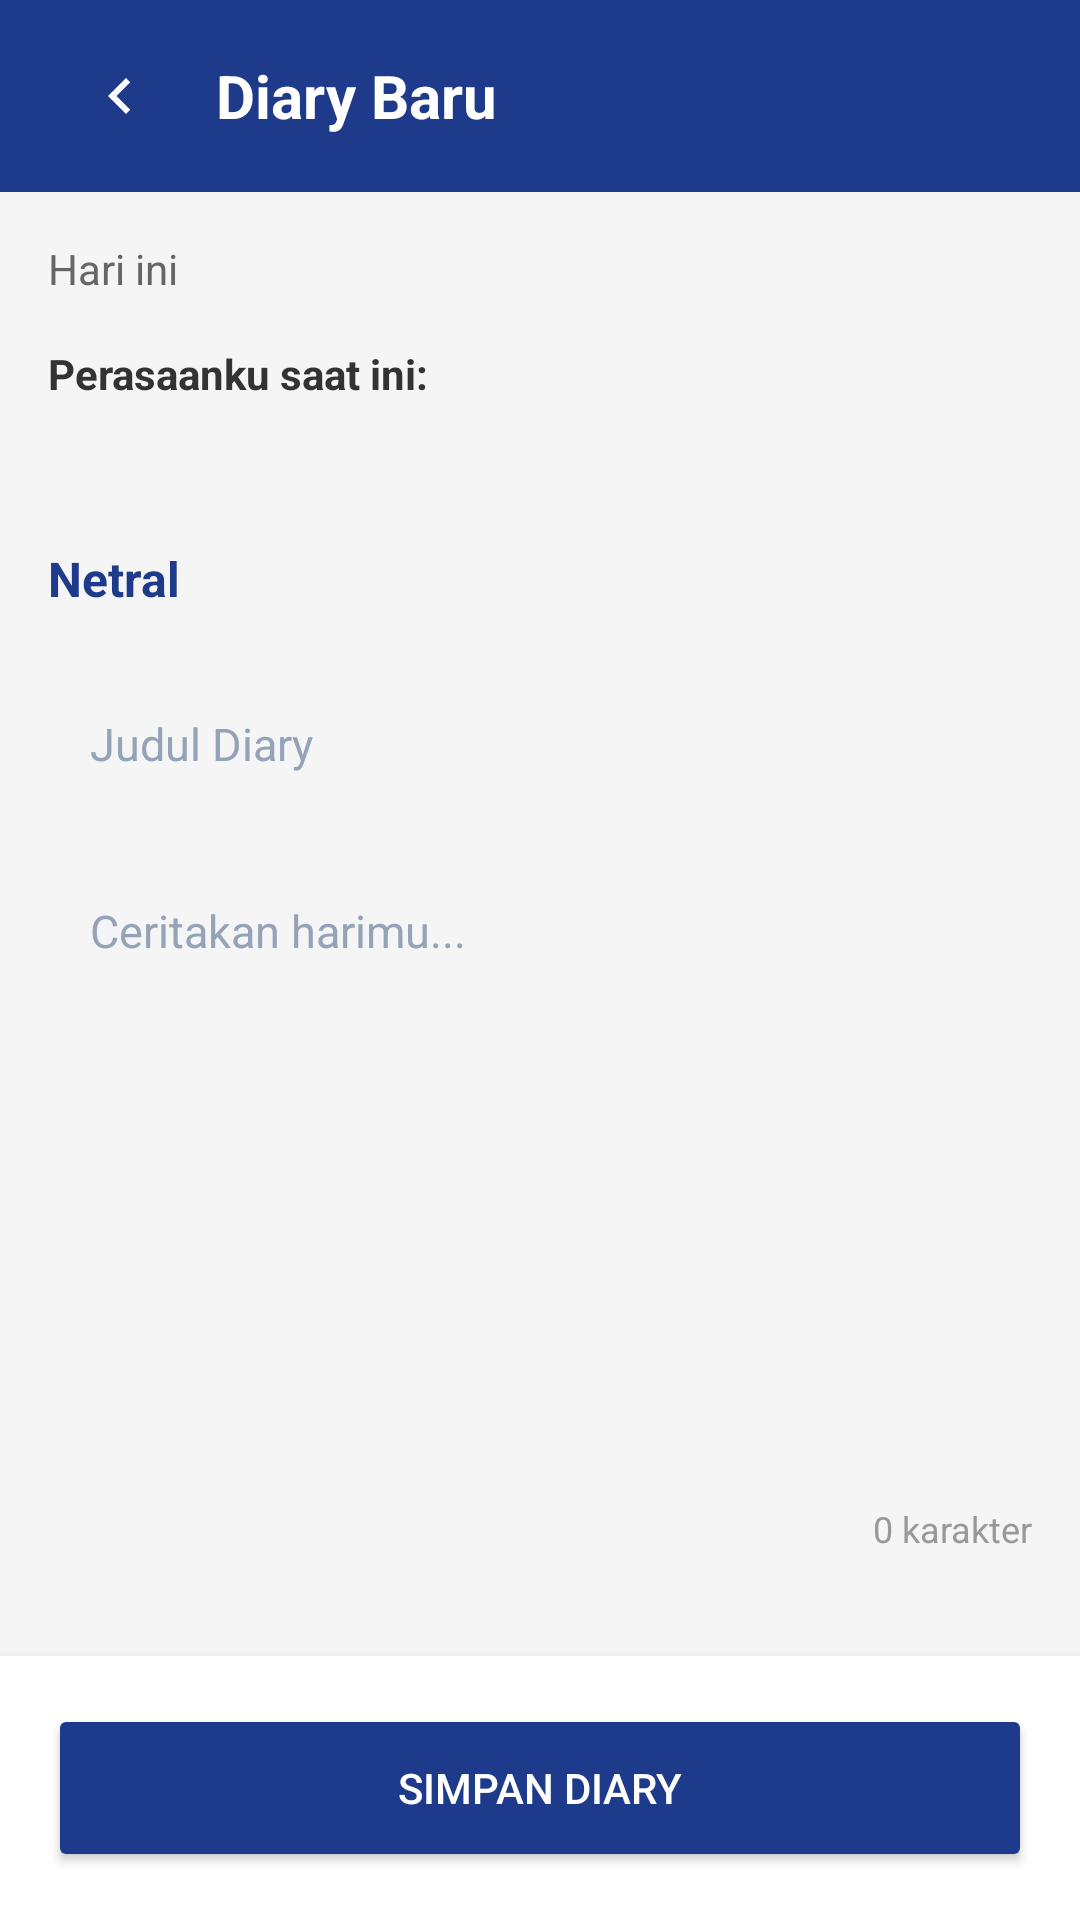

Screen size 1080px×1920px. Icon name, then its center in pixels as point (x, y):
Kembali: point (119, 96)
